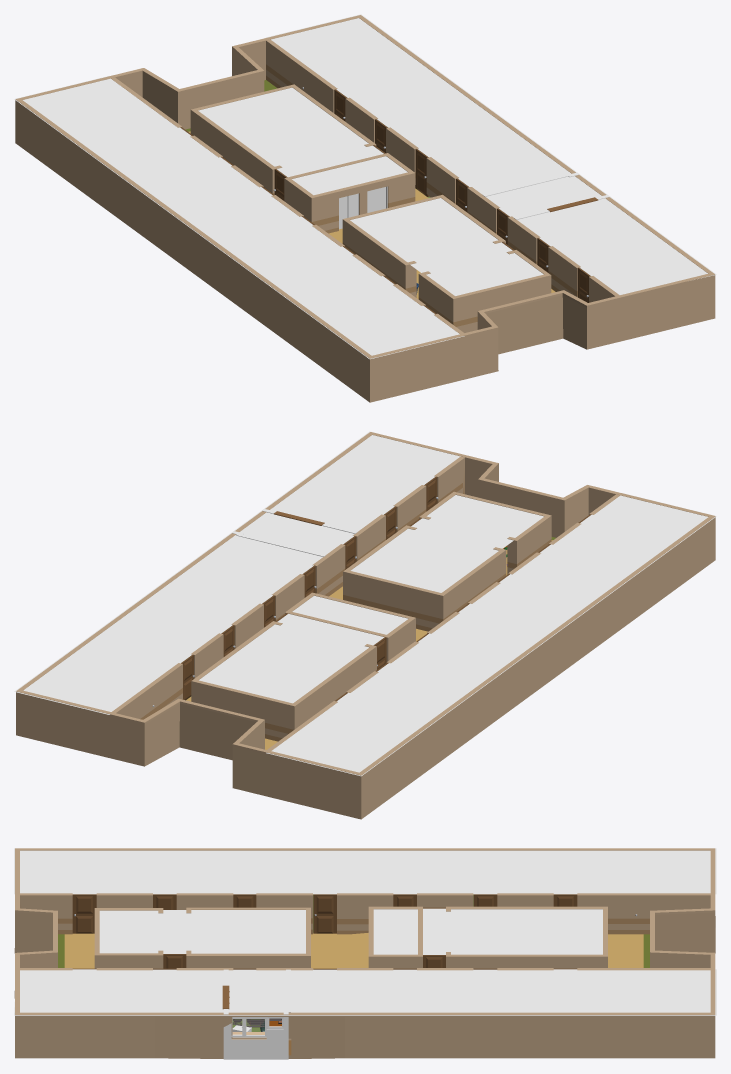
Rendered from LVL_1.fbx.
3 renders of one model, top to bottom at view 1: azimuth 30°, elevation 25°; view 2: azimuth 150°, elevation 25°; view 3: azimuth 270°, elevation 25°, orthographic.
Parts seen in each view (by area): view 1: LVL1, FogPlanes.011, LVL1_layout, FogPlanes, FogPlanes.003, FogPlanes.012, FogPlanes.002, LVL1_doors, FogPlanes.001, FogPlanes.013, Elevator1; view 2: LVL1, FogPlanes.011, LVL1_layout, FogPlanes, FogPlanes.003, FogPlanes.012, FogPlanes.002, FogPlanes.001, LVL1_doors, FogPlanes.013; view 3: LVL1, FogPlanes.011, LVL1_layout, FogPlanes, FogPlanes.003, FogPlanes.012, FogPlanes.002, LVL1_doors, FogPlanes.001, RoomWall, FogPlanes.013, Okna.
Part boxes in pixels (x1,y1,x2,y2): LVL1: (15,15,715,402); FogPlanes.011: (14,76,464,359); LVL1_layout: (111,39,619,334); FogPlanes: (266,14,577,194); FogPlanes.003: (350,198,543,295); FogPlanes.012: (517,197,716,294); FogPlanes.002: (198,87,383,177); LVL1_doors: (180,87,590,314); FogPlanes.001: (486,173,610,217); FogPlanes.013: (292,156,407,195); Elevator1: (339,186,387,229); LVL1: (16,432,715,819); FogPlanes.011: (266,493,716,776); LVL1_layout: (111,456,619,750); FogPlanes: (14,533,322,714); FogPlanes.003: (350,495,543,592); FogPlanes.012: (264,431,460,531); FogPlanes.002: (199,613,384,703); FogPlanes.001: (231,509,354,554); LVL1_doors: (152,476,591,706); FogPlanes.013: (292,595,408,634); LVL1: (14,848,715,1058); FogPlanes.011: (14,848,716,894); LVL1_layout: (20,893,710,970); FogPlanes: (288,969,716,1015); FogPlanes.003: (99,910,305,953); FogPlanes.012: (14,969,223,1015); FogPlanes.002: (423,908,602,954); LVL1_doors: (72,894,637,969); FogPlanes.001: (223,969,288,1015); RoomWall: (223,969,290,1059); FogPlanes.013: (373,909,417,954); Okna: (231,1017,283,1037).
Bounding box in the file's own units: 2149 × 282 × 3813.
